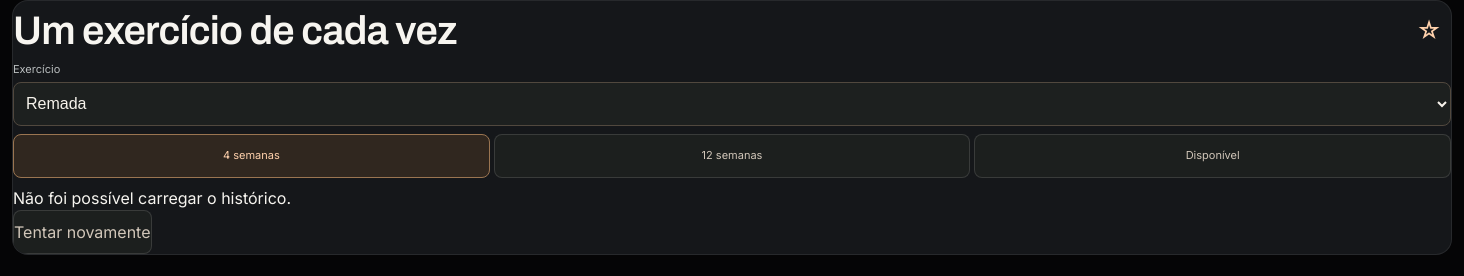
Test: retries failed requests and renders empty state without fabricated points
The image size is (1464, 276).
expect the message "Não foi possível carregar o histórico. Tentar novamente" is shown: met, box [13,188,291,254]
Click the button "Tentar novamente". click: click(82, 232)
box: [13,210,152,254]
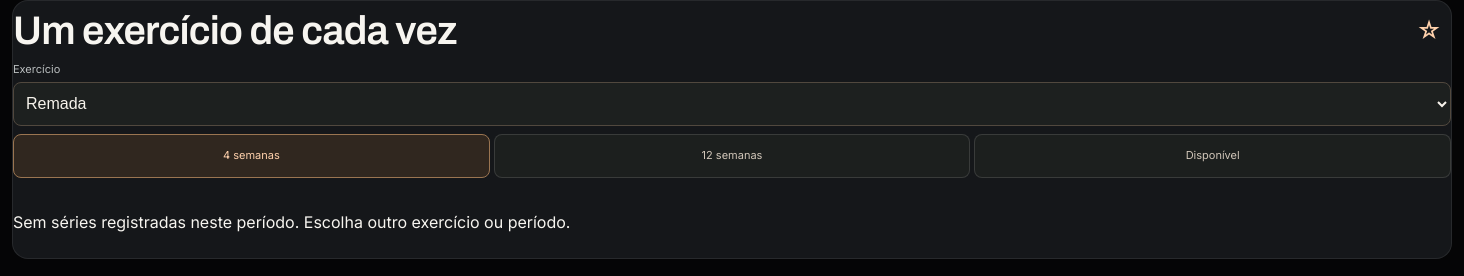
expect the text "Sem séries registradas" is shown: met, box [13,212,570,232]
